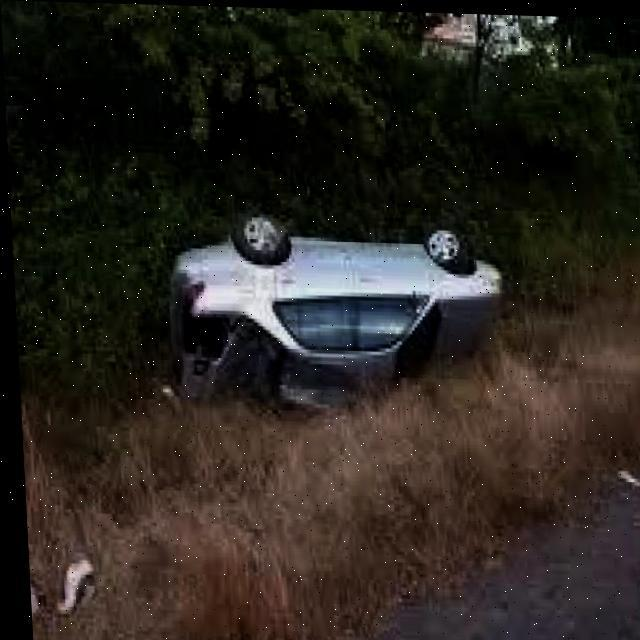single accident: (122, 160, 560, 445)
